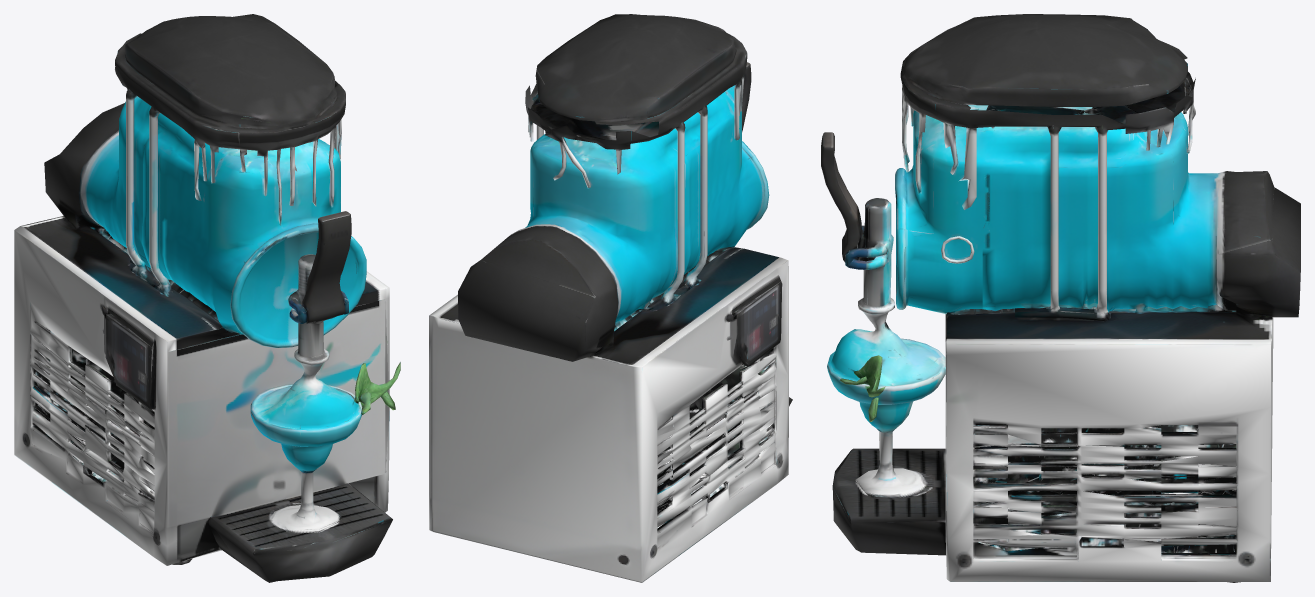
File: Frozen_Drink_Machine_24InchesTall_0215213809_texture.glb
The picture shows the model from 3 angles, left to right: view 1: azimuth 30°, elevation 25°; view 2: azimuth 150°, elevation 25°; view 3: azimuth 270°, elevation 25°; orthographic projection. The views are drawn at different scales.
Visible parts, largest first — view 1: Mesh_0; view 2: Mesh_0; view 3: Mesh_0.
Part boxes in pixels (x1=…): Mesh_0: x1=14, y1=14, x2=400, y2=582; Mesh_0: x1=429, y1=14, x2=792, y2=582; Mesh_0: x1=821, y1=14, x2=1300, y2=582.
Size of the model in its own units: 0.3029 by 0.6096 by 0.5207.
1 material, 1 textured.
